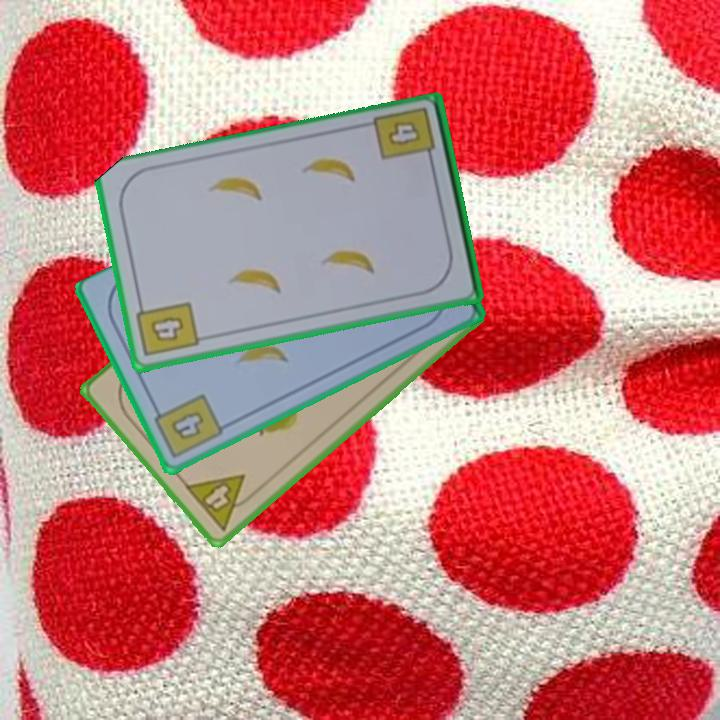4b: (149, 390, 226, 462), (370, 104, 439, 169), (133, 298, 202, 360)
4p: (181, 470, 261, 534)
